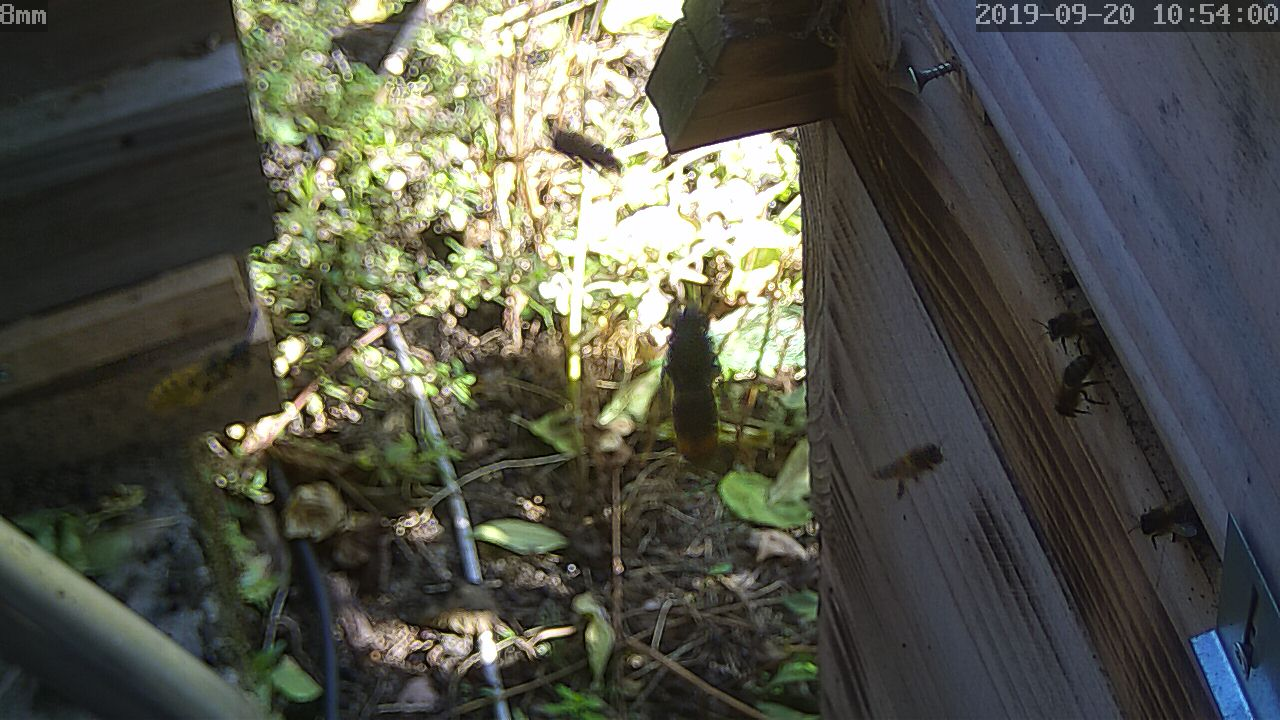bee: (870, 441, 948, 501), (1125, 493, 1201, 554), (1050, 351, 1103, 419), (1036, 304, 1103, 352)
hornet: (654, 308, 744, 481)
